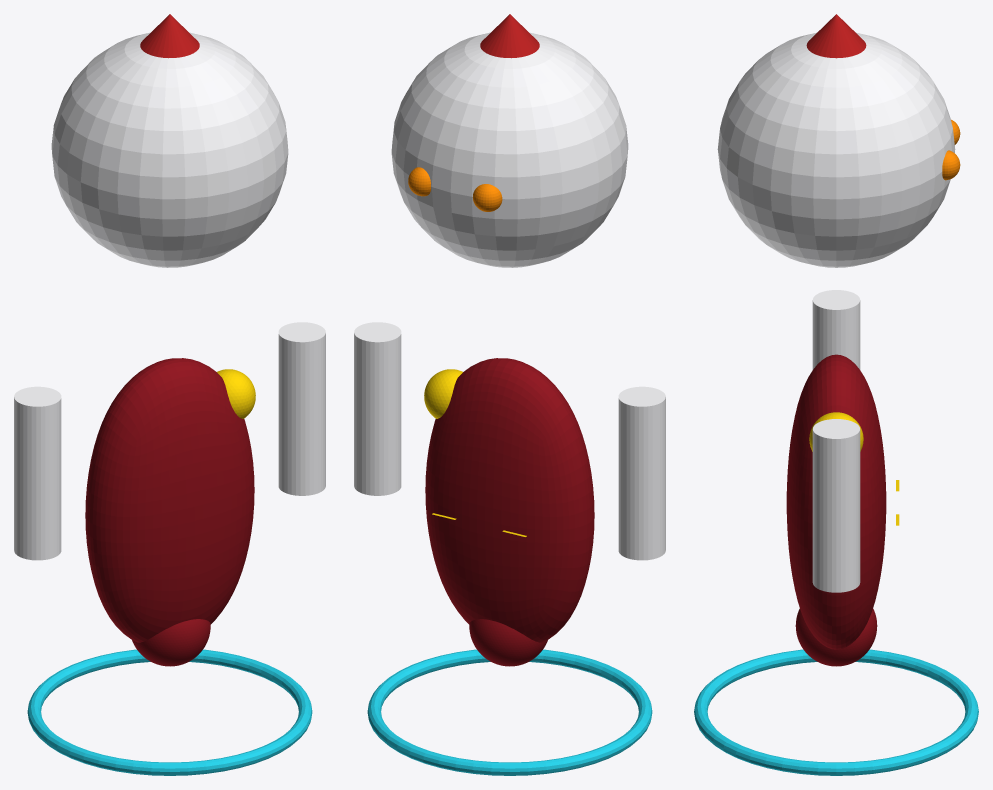
File: mascot_raw.obj
3 renders of one model, left to right at view 1: azimuth 30°, elevation 25°; view 2: azimuth 150°, elevation 25°; view 3: azimuth 270°, elevation 25°, orthographic.
Parts seen in each view (by area): view 1: Sphere, Cube, Cylinder, Cylinder.001, Torus, Icosphere, Cone, Icosphere.001; view 2: Sphere, Cube, Cylinder, Cylinder.001, Torus, Icosphere, Cone, Icosphere.001, Sphere.001, Sphere.002; view 3: Sphere, Cube, Cylinder.001, Torus, Cylinder, Icosphere, Cone.
Boxes of the visible parts, <box> form: Sphere: <box>51,32,288,267</box>; Cube: <box>85,358,254,642</box>; Cylinder: <box>14,386,61,560</box>; Cylinder.001: <box>278,322,325,495</box>; Torus: <box>27,649,312,775</box>; Icosphere: <box>132,619,210,666</box>; Cone: <box>140,14,199,58</box>; Icosphere.001: <box>217,369,255,418</box>; Sphere: <box>391,32,628,267</box>; Cube: <box>425,358,594,642</box>; Cylinder: <box>618,386,665,560</box>; Cylinder.001: <box>354,322,401,495</box>; Torus: <box>367,649,652,775</box>; Icosphere: <box>469,619,547,666</box>; Cone: <box>480,14,539,58</box>; Icosphere.001: <box>424,369,462,418</box>; Sphere.001: <box>472,184,502,211</box>; Sphere.002: <box>408,167,430,196</box>; Sphere: <box>717,32,955,267</box>; Cube: <box>786,354,886,649</box>; Cylinder.001: <box>812,419,860,592</box>; Torus: <box>694,649,978,775</box>; Cylinder: <box>812,290,860,369</box>; Icosphere: <box>795,608,877,666</box>; Cone: <box>806,14,866,58</box>.
Size of the model in its own units: 1.04 by 2.29 by 0.84.
